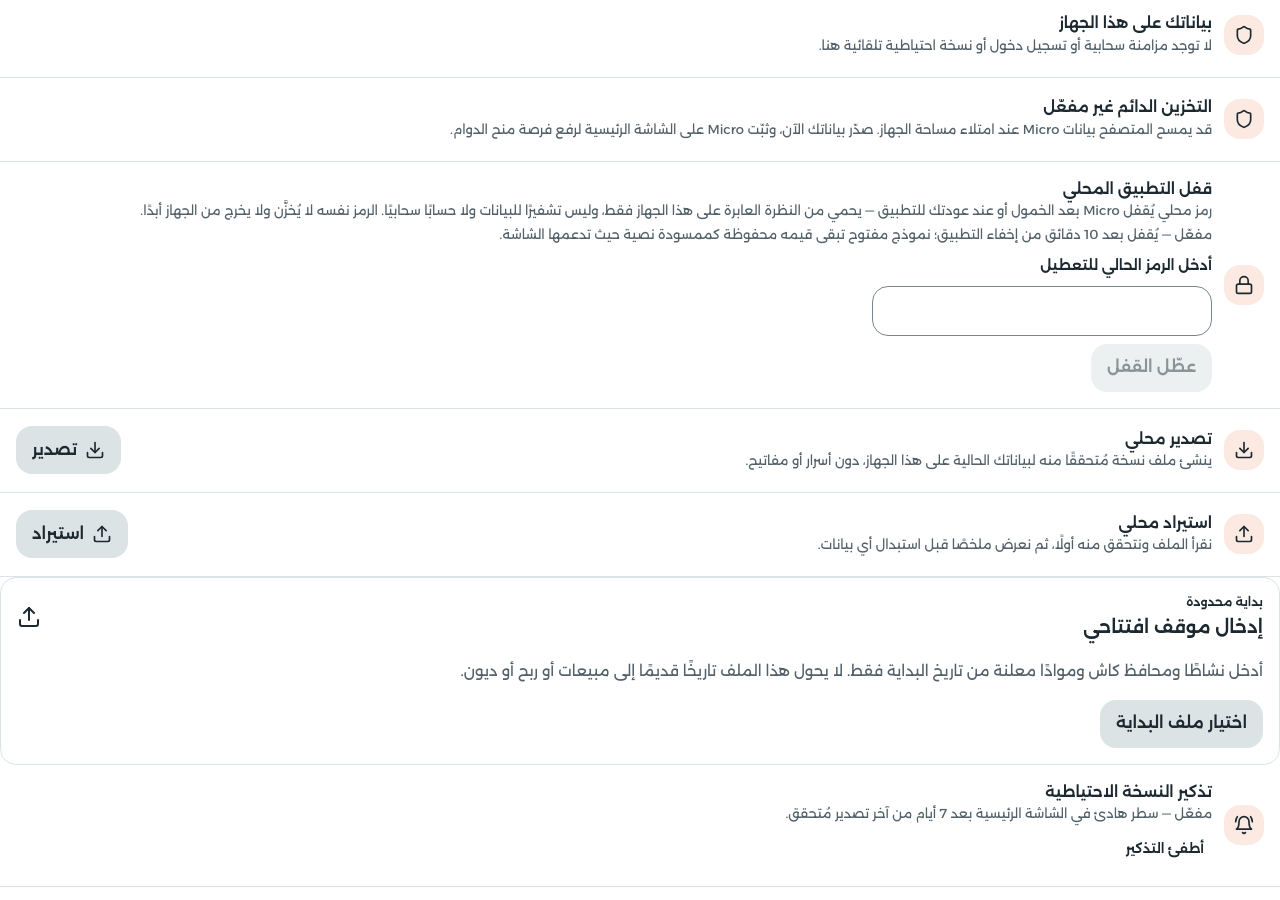
Scenario: Settings data actions are gated behind the local lock (Group 6 — SP-01) › Arabic-Indic digits typed in the PIN dialog keep their numeric meaning
(page scrolled)
Click the button with aria-label "تصدير البيانات المحلية": (69, 450) x1=16 y1=426 x2=121 y2=474
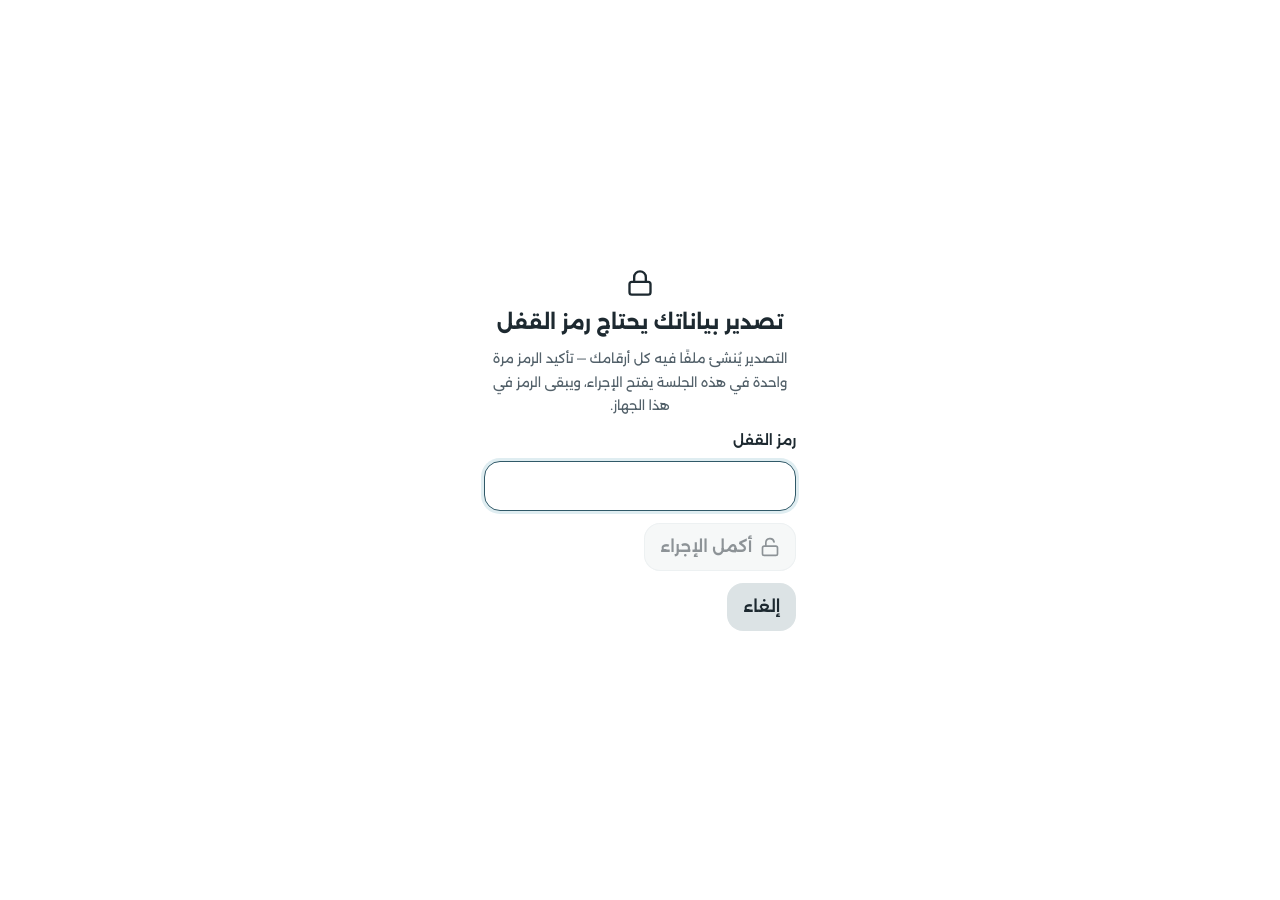
In the password field labelled "رمز القفل": (640, 486) x1=484 y1=461 x2=796 y2=511, type "٤١٧٩"
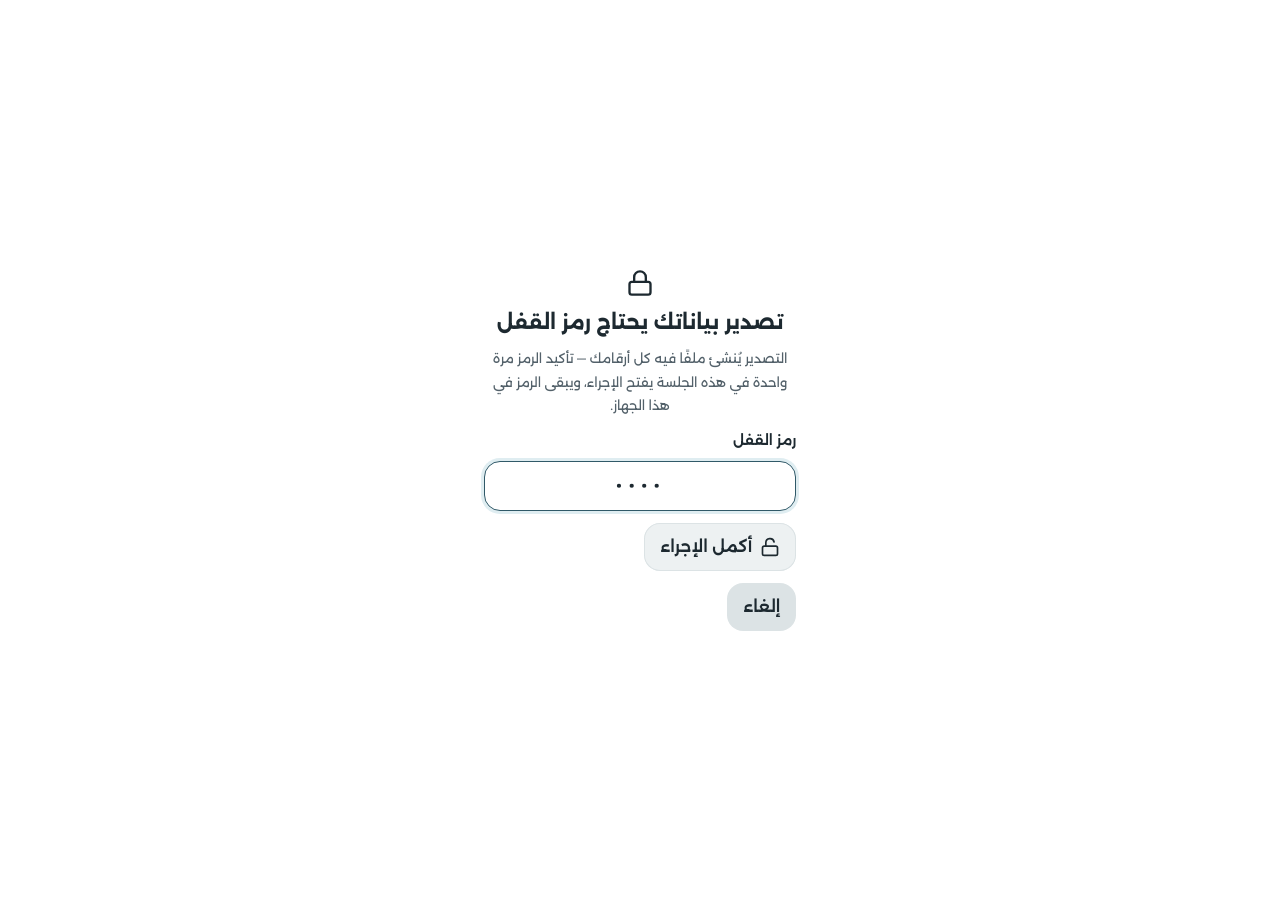
Expected: the password field labelled "رمز القفل" holds "4179", x1=484 y1=461 x2=796 y2=511
